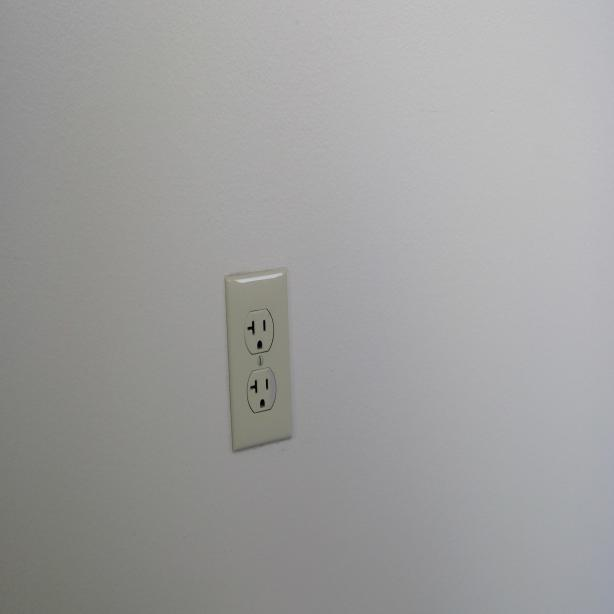typeb: (242, 309, 274, 355), (246, 369, 276, 410)
